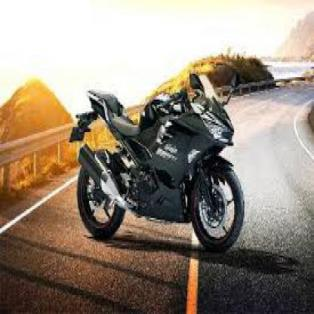Motocicleta: (71, 66, 249, 256)
